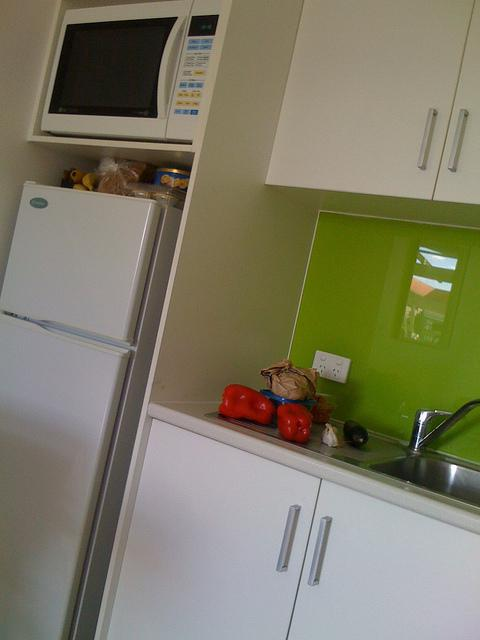Lavaplatos: (349, 394, 479, 519)
